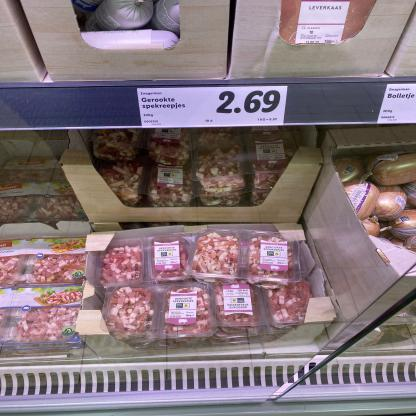prtg: (138, 87, 289, 128), (378, 84, 416, 125)
